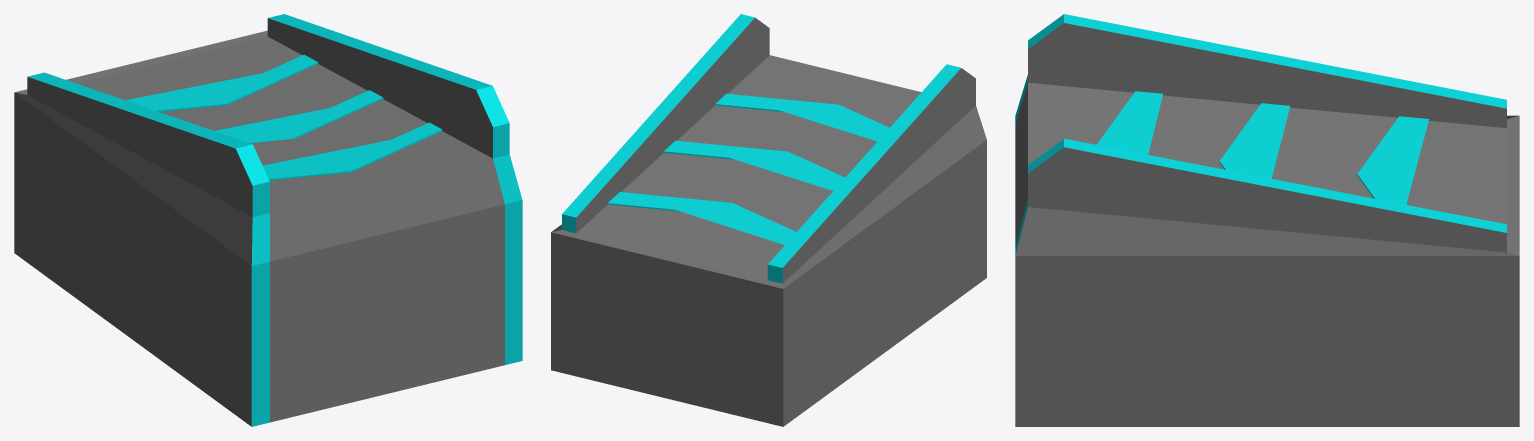
Rendered from Gray Mancannon1.fbx.
3 views of the same model, side by side, from view 1: azimuth 30°, elevation 25°; view 2: azimuth 150°, elevation 25°; view 3: azimuth 270°, elevation 25° (orthographic). The views are drawn at different scales.
Parts seen in each view (by area): view 1: pCube1; view 2: pCube1; view 3: pCube1.
Boxes of the visible parts, box(x1,y1,x2,y2) form: pCube1: box(14, 14, 522, 426); pCube1: box(551, 14, 986, 426); pCube1: box(1015, 14, 1519, 426).
Size of the model in its own units: 3.52 by 3.23 by 5.34.
